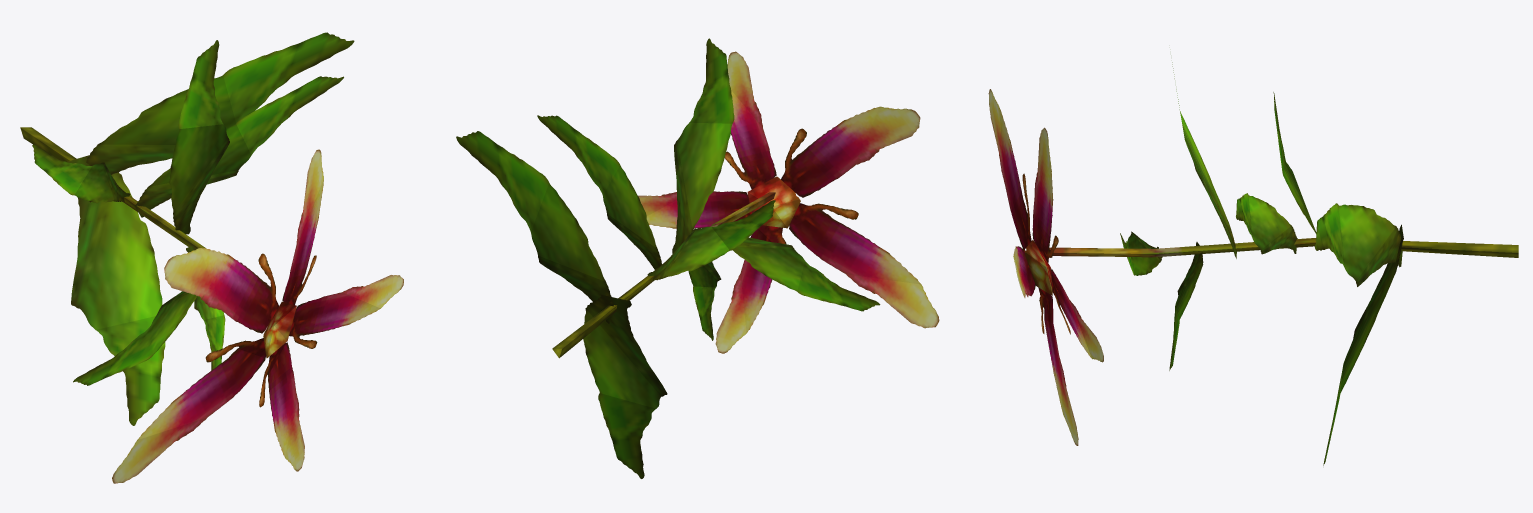
The model's file is huodong_fuben_188_xiaozhiwu_03.obj.
3 renders of one model, left to right at view 1: azimuth 30°, elevation 25°; view 2: azimuth 150°, elevation 25°; view 3: azimuth 270°, elevation 25°, orthographic. The views are drawn at different scales.
Parts seen in each view (by area): view 1: xinshoucun_hua_06; view 2: xinshoucun_hua_06; view 3: xinshoucun_hua_06.
Boxes of the visible parts, box(x1,y1,x2,y2) form: xinshoucun_hua_06: box(20, 32, 403, 483); xinshoucun_hua_06: box(456, 38, 939, 478); xinshoucun_hua_06: box(988, 62, 1518, 465).
Bounding box in the file's own units: 30.6 × 33.2 × 33.56.
1 material, 1 textured.
